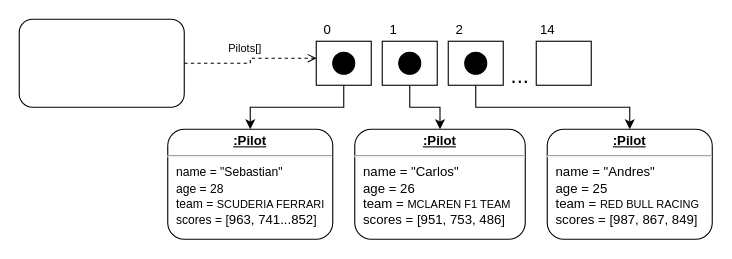
The diagram is 732 pixels wide and 259 high, and some of its shapes have lost their labels. Each missing label, with the centre of its shape:
":Championship year = 2020 races = 5 MAX_PILOTS = 15" goes at (x=101, y=62).
"null" goes at (x=563, y=62).
